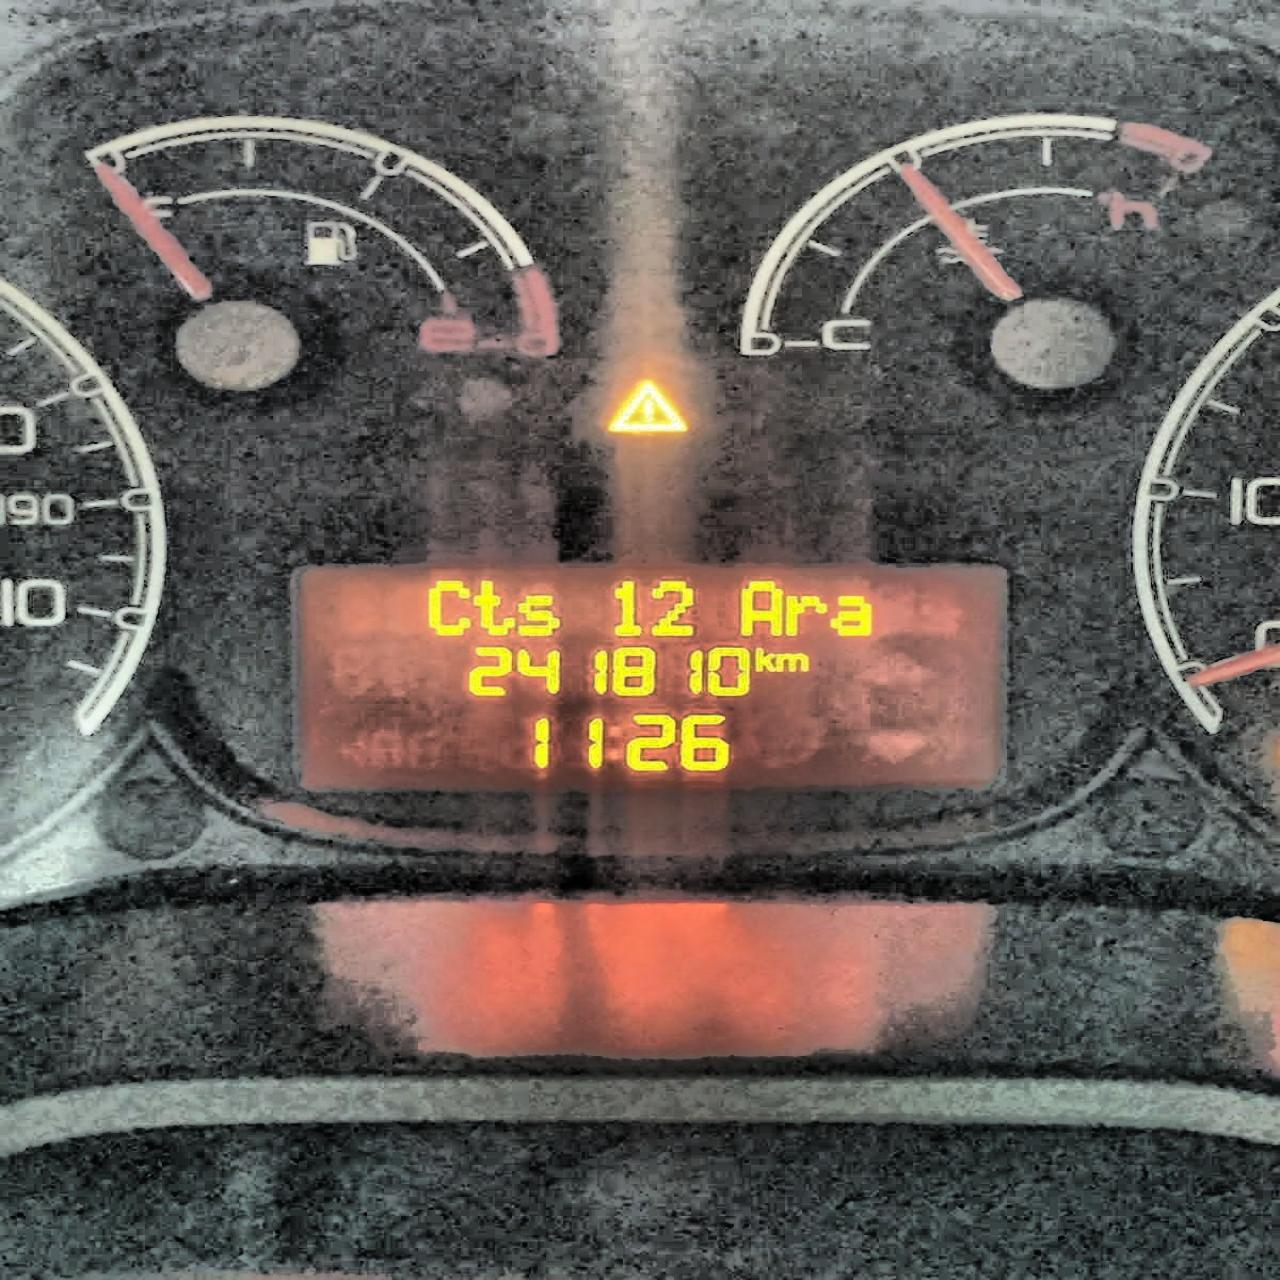0: (706, 644, 751, 697)
1: (607, 576, 645, 639), (526, 713, 556, 770), (580, 712, 607, 771), (682, 645, 704, 696), (587, 646, 608, 696)
2: (621, 710, 674, 774), (647, 577, 696, 639), (465, 644, 513, 697)
4: (515, 646, 561, 695)
6: (678, 712, 733, 772)
8: (610, 644, 658, 696)
X: (735, 577, 783, 639), (423, 576, 470, 639), (470, 577, 516, 639), (830, 591, 876, 640), (517, 591, 561, 639), (783, 593, 828, 639), (777, 651, 810, 674), (750, 645, 776, 674)
odometer: (280, 556, 1021, 801)
